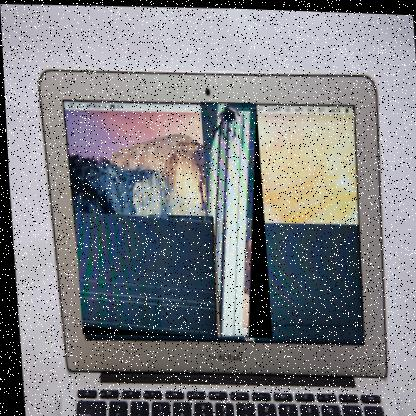crack: (198, 99, 268, 337)
lines: (70, 210, 218, 338), (211, 104, 256, 309)
